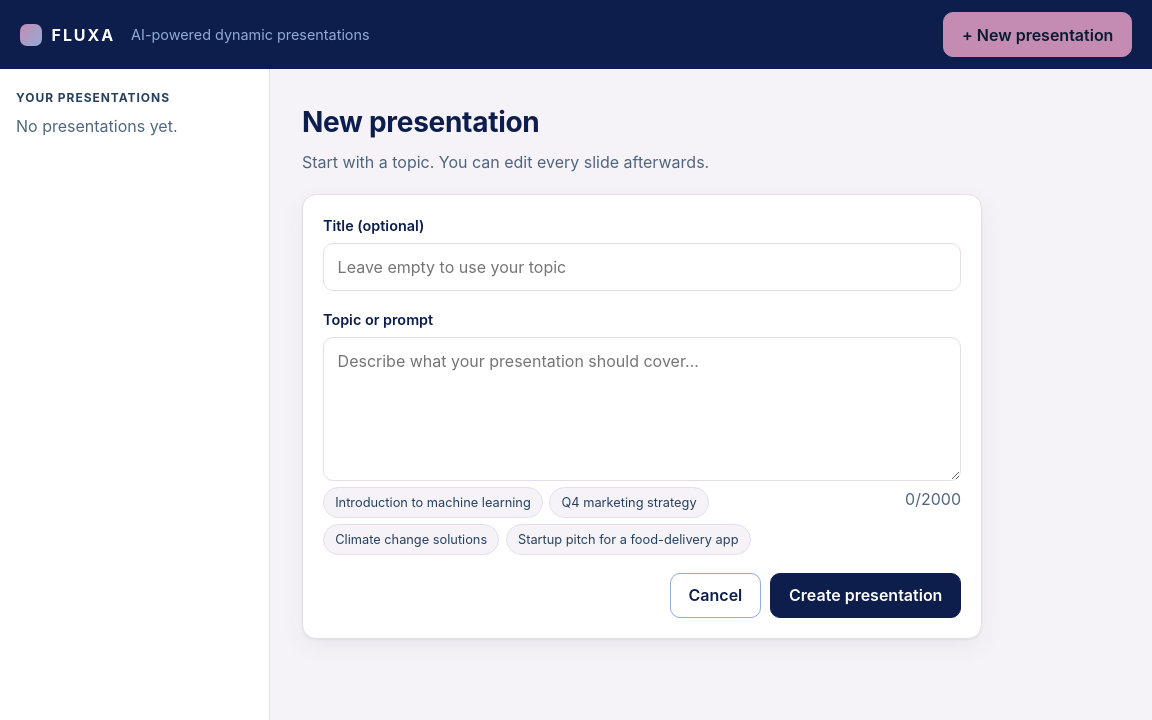
Test: an example chip fills the prompt and updates the counter
Click the button "Q4 marketing strategy" at (629, 503), box [549,487,709,518]
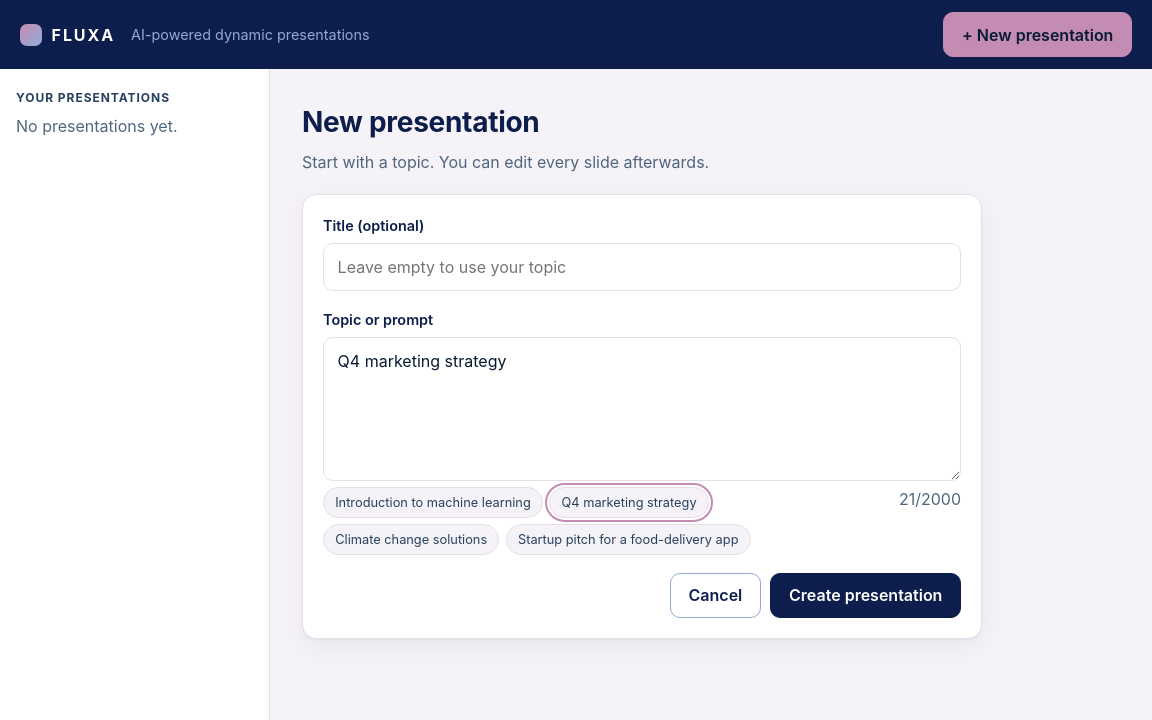
Now the text box labelled "Topic or prompt" holds "Q4 marketing strategy", box [323,336,961,481]
Now the text with test id "char-count" reads "21/2000", box [899,487,961,511]
